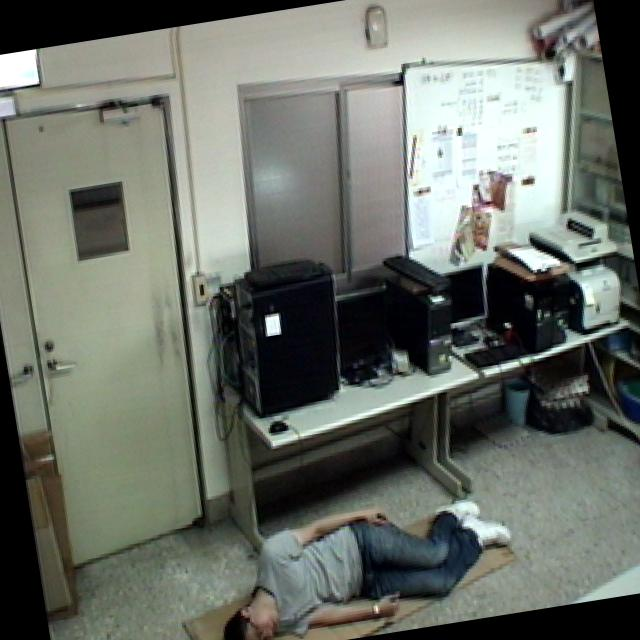lie: (192, 455, 529, 640)
